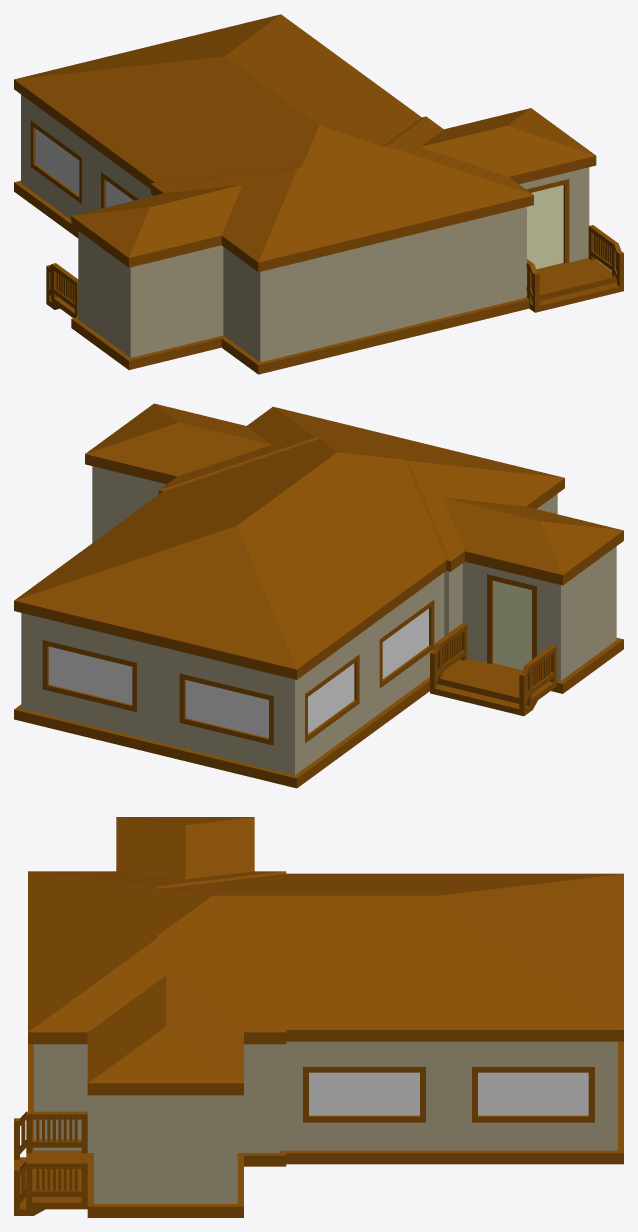
The model's file is House #7.fbx.
3 views of the same model, one above another, from view 1: azimuth 30°, elevation 25°; view 2: azimuth 150°, elevation 25°; view 3: azimuth 270°, elevation 25° (orthographic). The views are drawn at different scales.
Visible parts, largest first — view 1: building_001; view 2: building_001; view 3: building_001.
Part boxes in pixels (x1=…): building_001: x1=14, y1=14, x2=623, y2=374; building_001: x1=14, y1=403, x2=623, y2=788; building_001: x1=14, y1=817, x2=623, y2=1217.
Bounding box in the file's own units: 1025 × 342 × 992.
